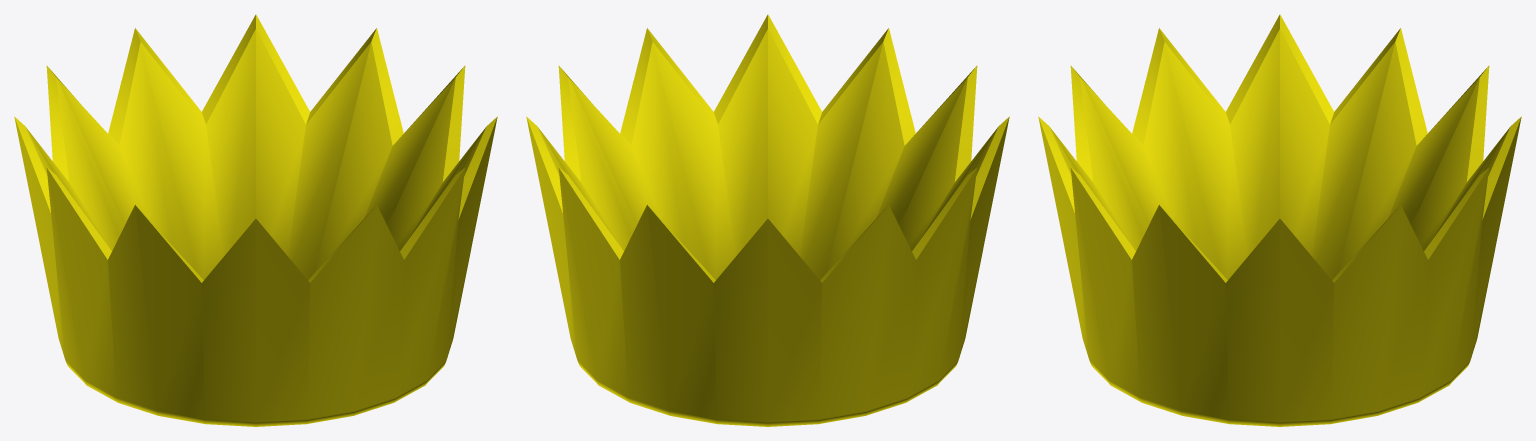
The model's file is Crown.fbx.
The picture shows the model from 3 angles, left to right: view 1: azimuth 30°, elevation 25°; view 2: azimuth 150°, elevation 25°; view 3: azimuth 270°, elevation 25°; orthographic projection.
Visible parts, largest first — view 1: polySurface572; view 2: polySurface572; view 3: polySurface572.
Part boxes in pixels (x1,y1,x2,y2): polySurface572: [14, 14, 497, 426]; polySurface572: [526, 14, 1009, 426]; polySurface572: [1038, 14, 1521, 426].
Bounding box in the file's own units: 68.83 × 35.87 × 68.83.
